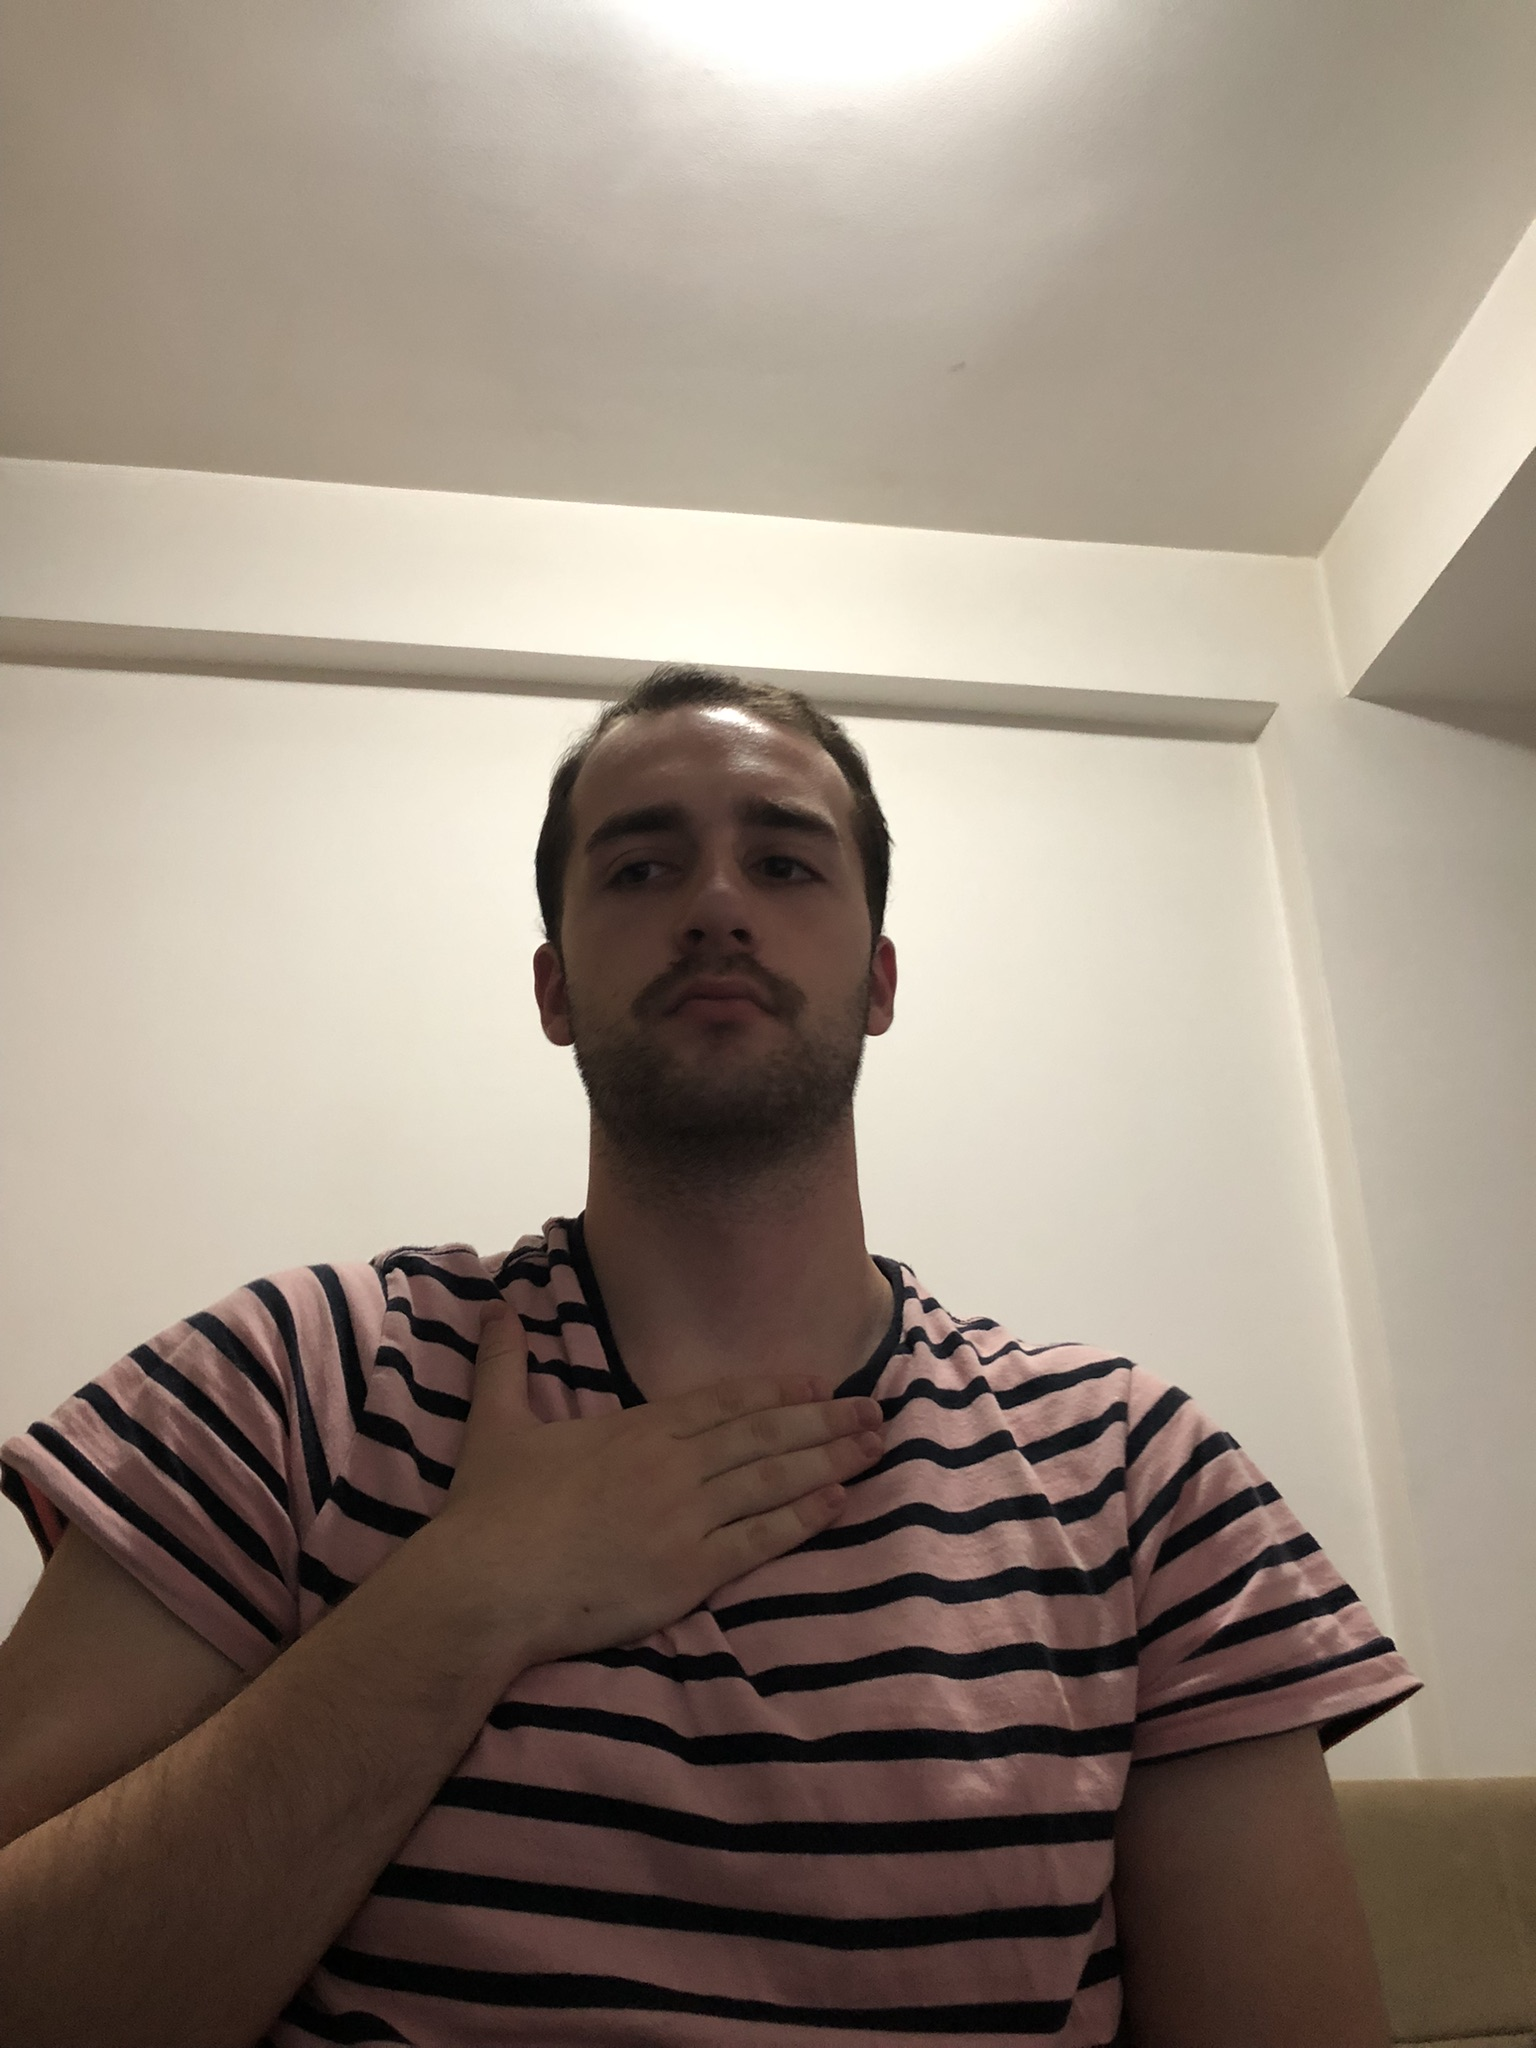Please: (3, 1292, 891, 2048)
